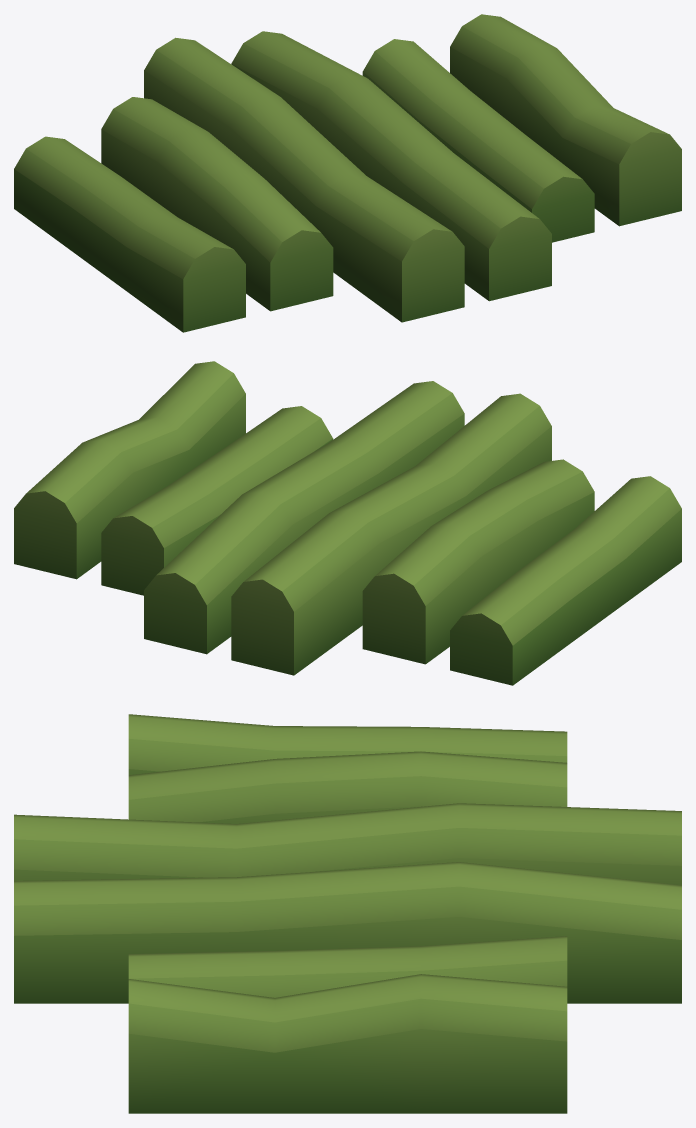
Rendered from field.glb.
3 views of the same model, one above another, from view 1: azimuth 30°, elevation 25°; view 2: azimuth 150°, elevation 25°; view 3: azimuth 270°, elevation 25° (orthographic). The views are drawn at different scales.
Parts seen in each view (by area): view 1: field; view 2: field; view 3: field.
Part boxes in pixels (<box>): field: <box>14,14,681,332</box>; field: <box>14,361,681,685</box>; field: <box>14,714,681,1113</box>.
Size of the model in its own units: 0.715 by 0.1295 by 0.64.
